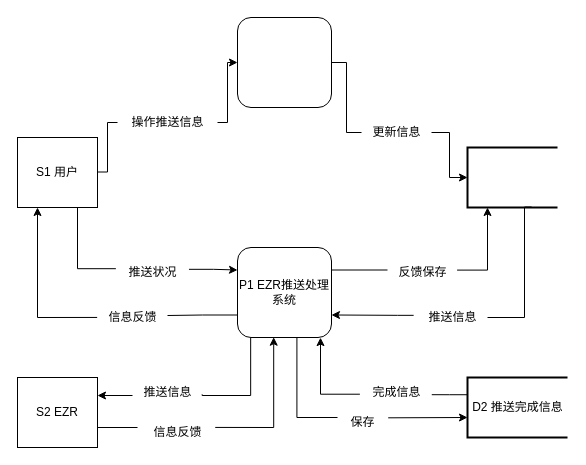
Some shapes in this 586 by 465 pixel diagram are drawn without their labels. Here are the shapes that lost their labels. From the top down, the centre of each, then its label:
[284,62]: P2 操作推送数据
[512,177]: D1 推送信息
